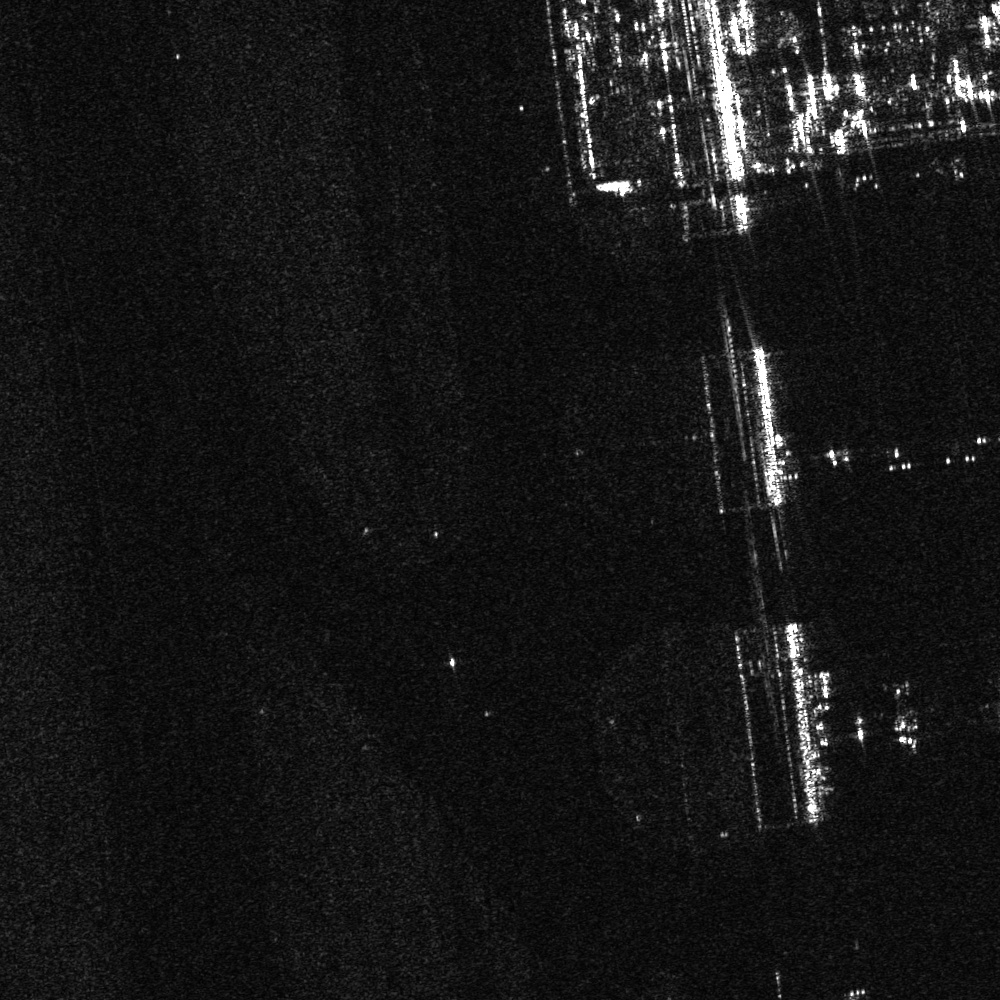A220: (872, 679, 937, 752)
